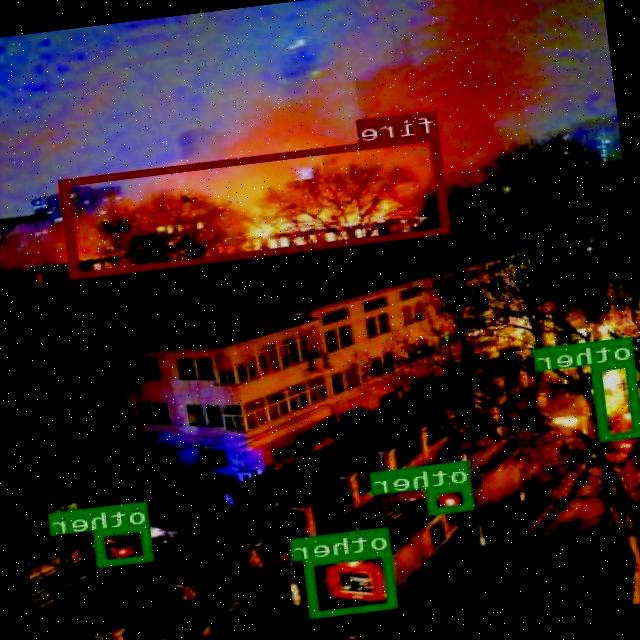fire: (60, 132, 453, 278)
